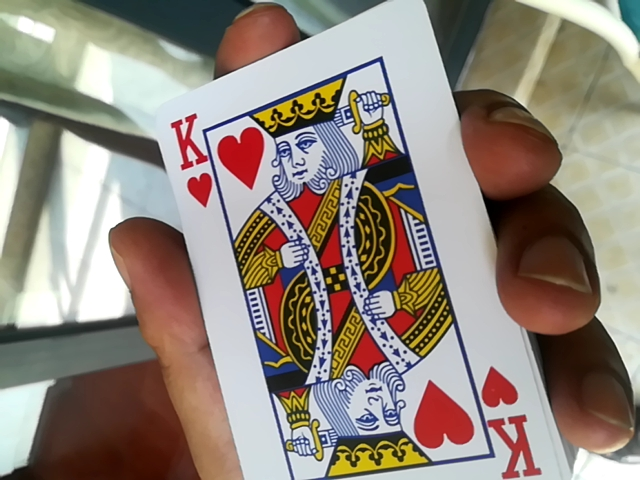hx k: (133, 4, 566, 475)
